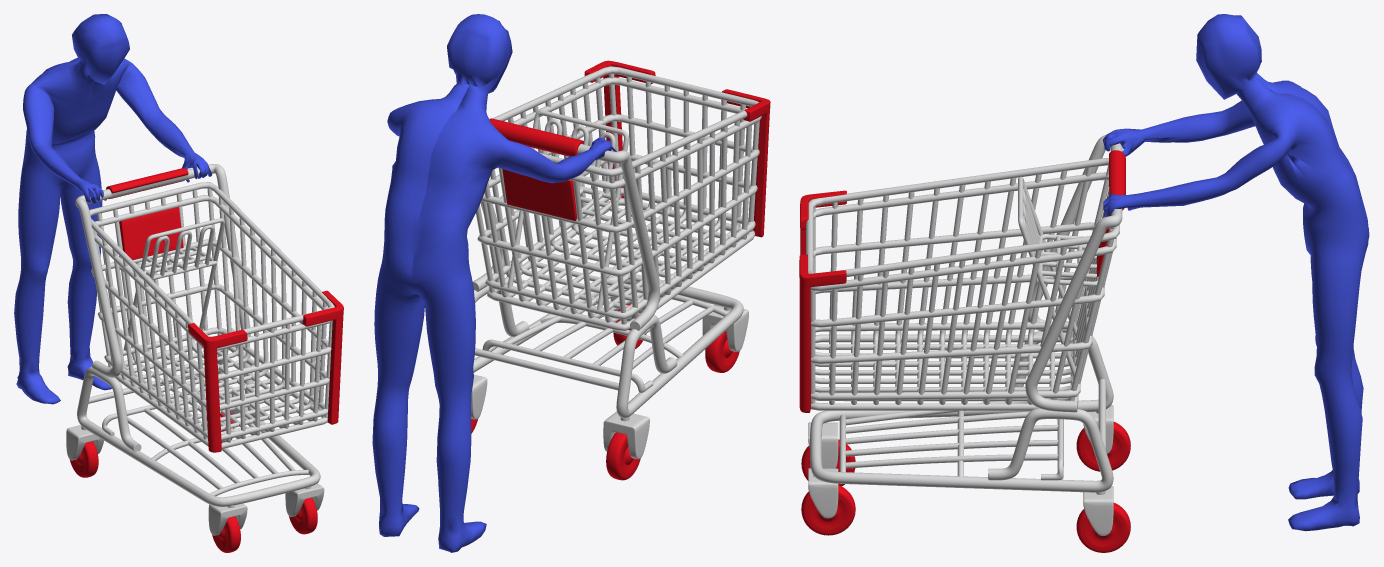
The model's file is blueobstacle.fbx.
The picture shows the model from 3 angles, left to right: view 1: azimuth 30°, elevation 25°; view 2: azimuth 150°, elevation 25°; view 3: azimuth 270°, elevation 25°; orthographic projection. The views are drawn at different scales.
Visible parts, largest first — view 1: 18534_Shopping_Cart_v1, blueobstacle; view 2: 18534_Shopping_Cart_v1, blueobstacle; view 3: 18534_Shopping_Cart_v1, blueobstacle.
Boxes of the visible parts, x1,y1,x2,y2 form: 18534_Shopping_Cart_v1: (66,164,343,552); blueobstacle: (14,14,211,404); 18534_Shopping_Cart_v1: (471,60,770,480); blueobstacle: (372,14,616,552); 18534_Shopping_Cart_v1: (799,134,1130,552); blueobstacle: (1103,14,1369,531).
Bounding box in the file's own units: 77.35 × 183 × 192.
